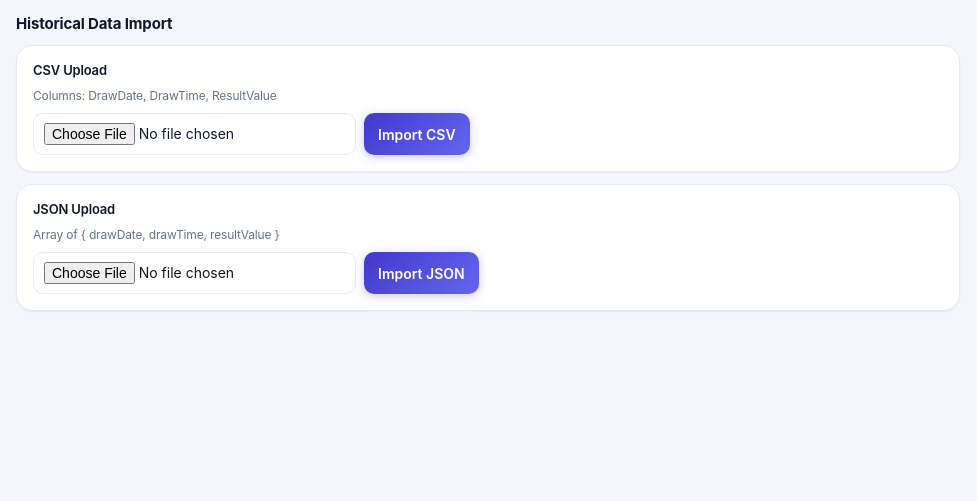
Test: AdminImport page › renders the import summary after a successful import
Click the button "Import CSV" at point(417, 134), box [364,113,470,155]
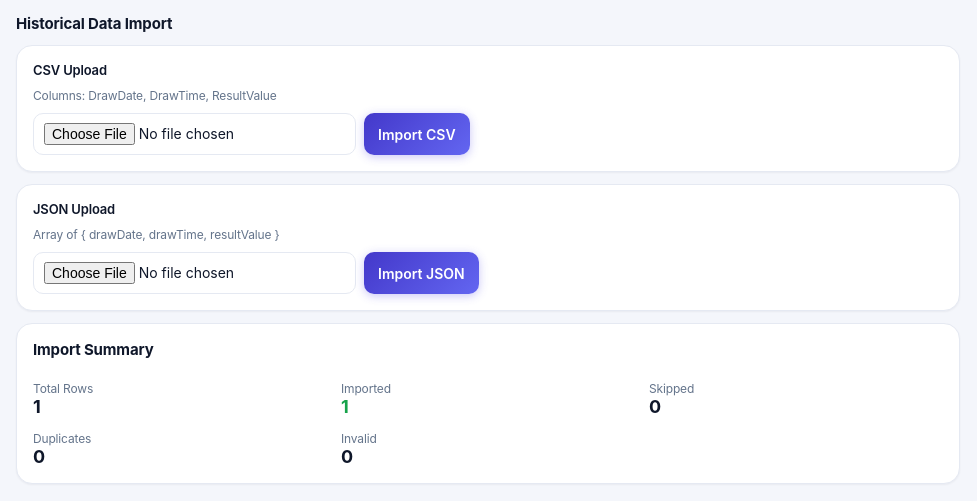
Expected: the text "Import Summary" is shown, [33,340,154,359]
Expected: the text "Total Rows" is shown, [33,381,93,396]
